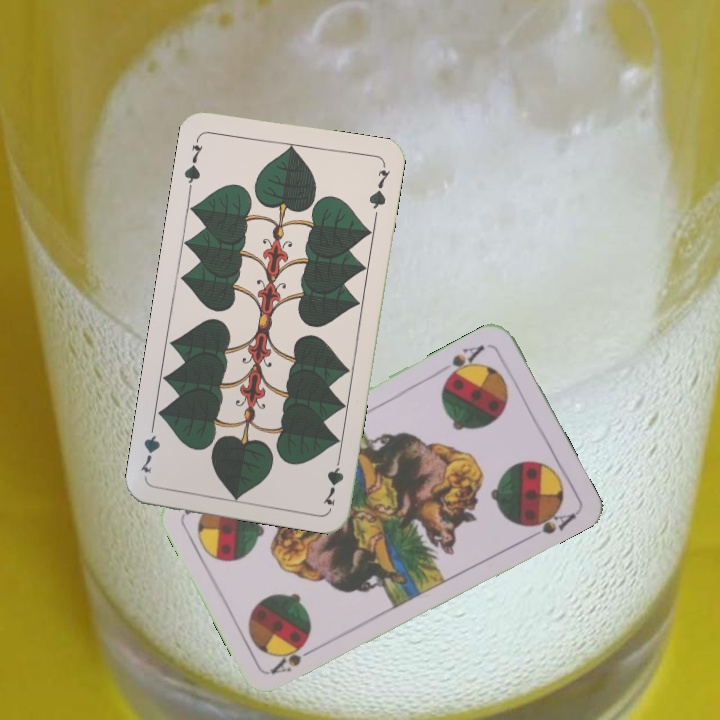G7: (319, 449, 347, 508), (180, 134, 206, 193)
SA: (267, 637, 322, 677), (441, 340, 487, 384)
